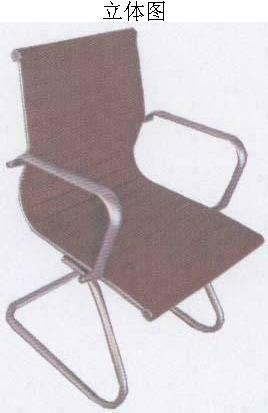obstacle: (1, 24, 266, 412)
